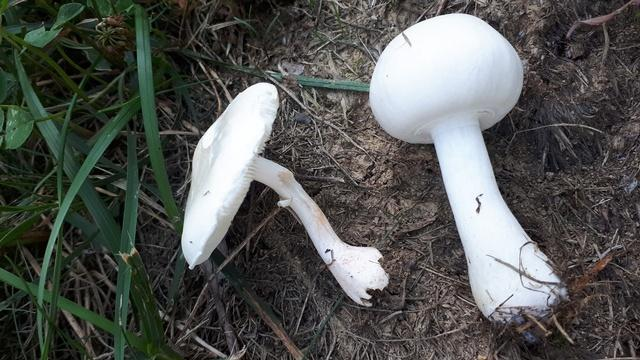poisonous_mushroom: (367, 11, 570, 326), (179, 85, 392, 317)
